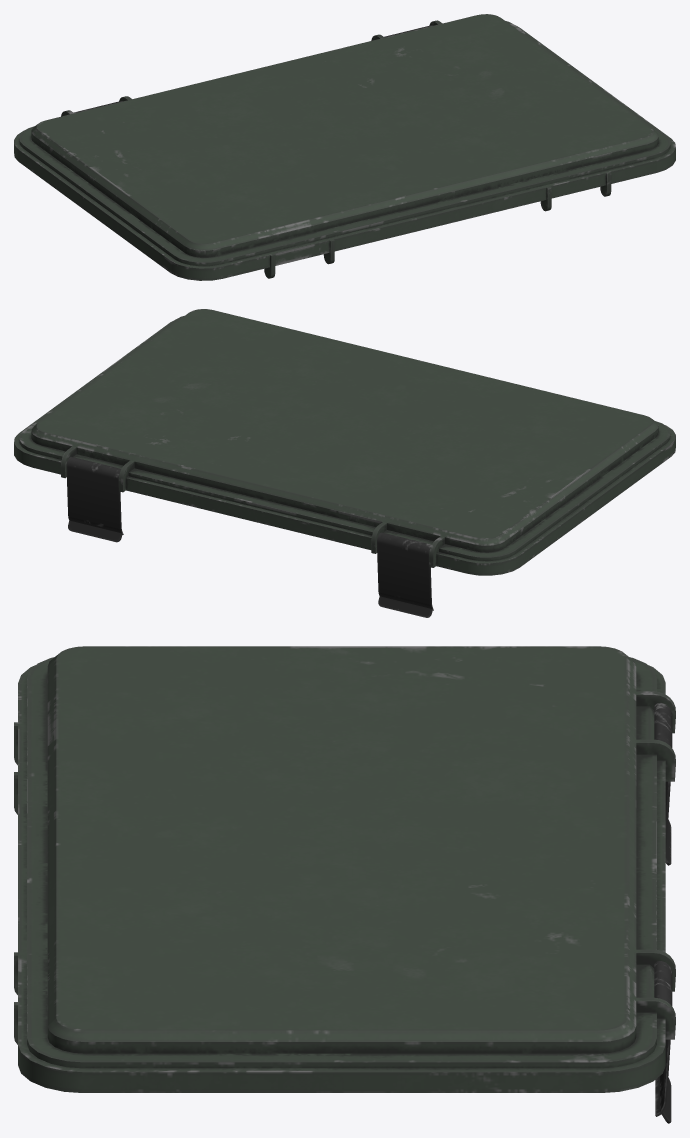
Rendered from SM_MilitaryCrate_02_top.fbx.
3 renders of one model, top to bottom at view 1: azimuth 30°, elevation 25°; view 2: azimuth 150°, elevation 25°; view 3: azimuth 270°, elevation 25°, orthographic. The views are drawn at different scales.
Visible parts, largest first — view 1: SM_MilitaryCrate_02_top_LOD0; view 2: SM_MilitaryCrate_02_top_LOD0; view 3: SM_MilitaryCrate_02_top_LOD0.
Boxes of the visible parts, x1,y1,x2,y2 form: SM_MilitaryCrate_02_top_LOD0: (14,14,675,280); SM_MilitaryCrate_02_top_LOD0: (14,309,675,617); SM_MilitaryCrate_02_top_LOD0: (14,646,675,1123).
Size of the model in its own units: 101 by 67.84 by 15.5.
Materials: 1 (1 with a texture image).
